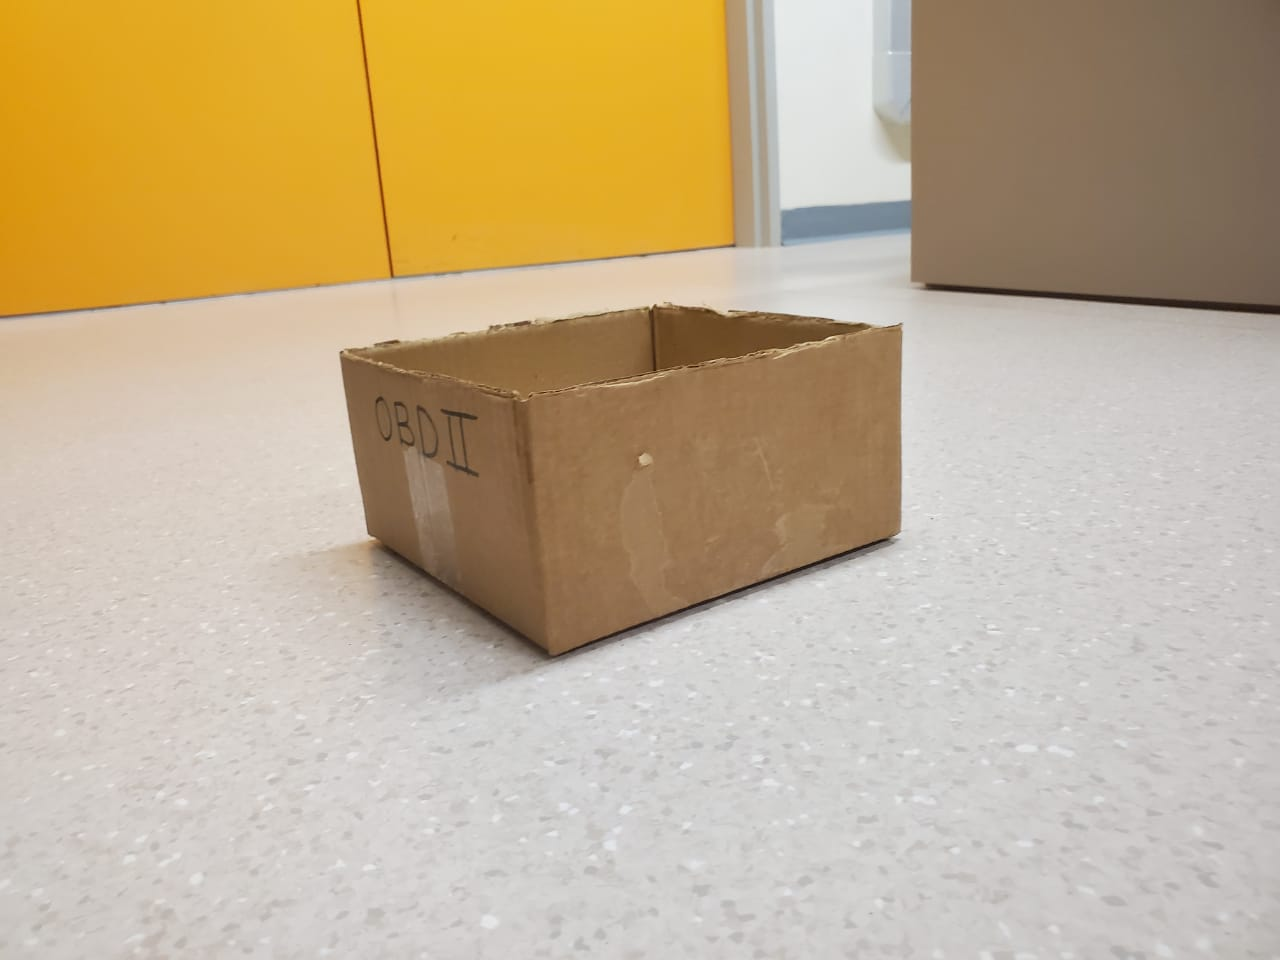CBox: (329, 287, 914, 669)
